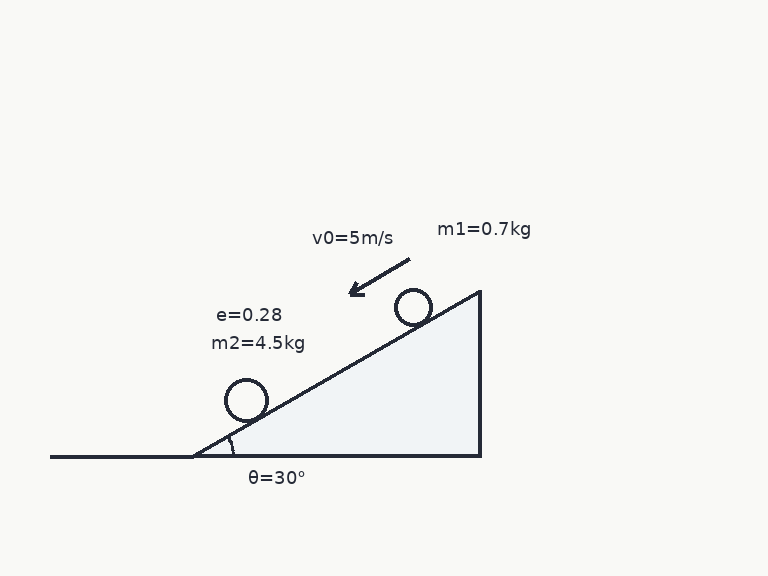ball: (222, 376, 270, 424), (392, 286, 434, 328)
ramp: (191, 289, 481, 458)
